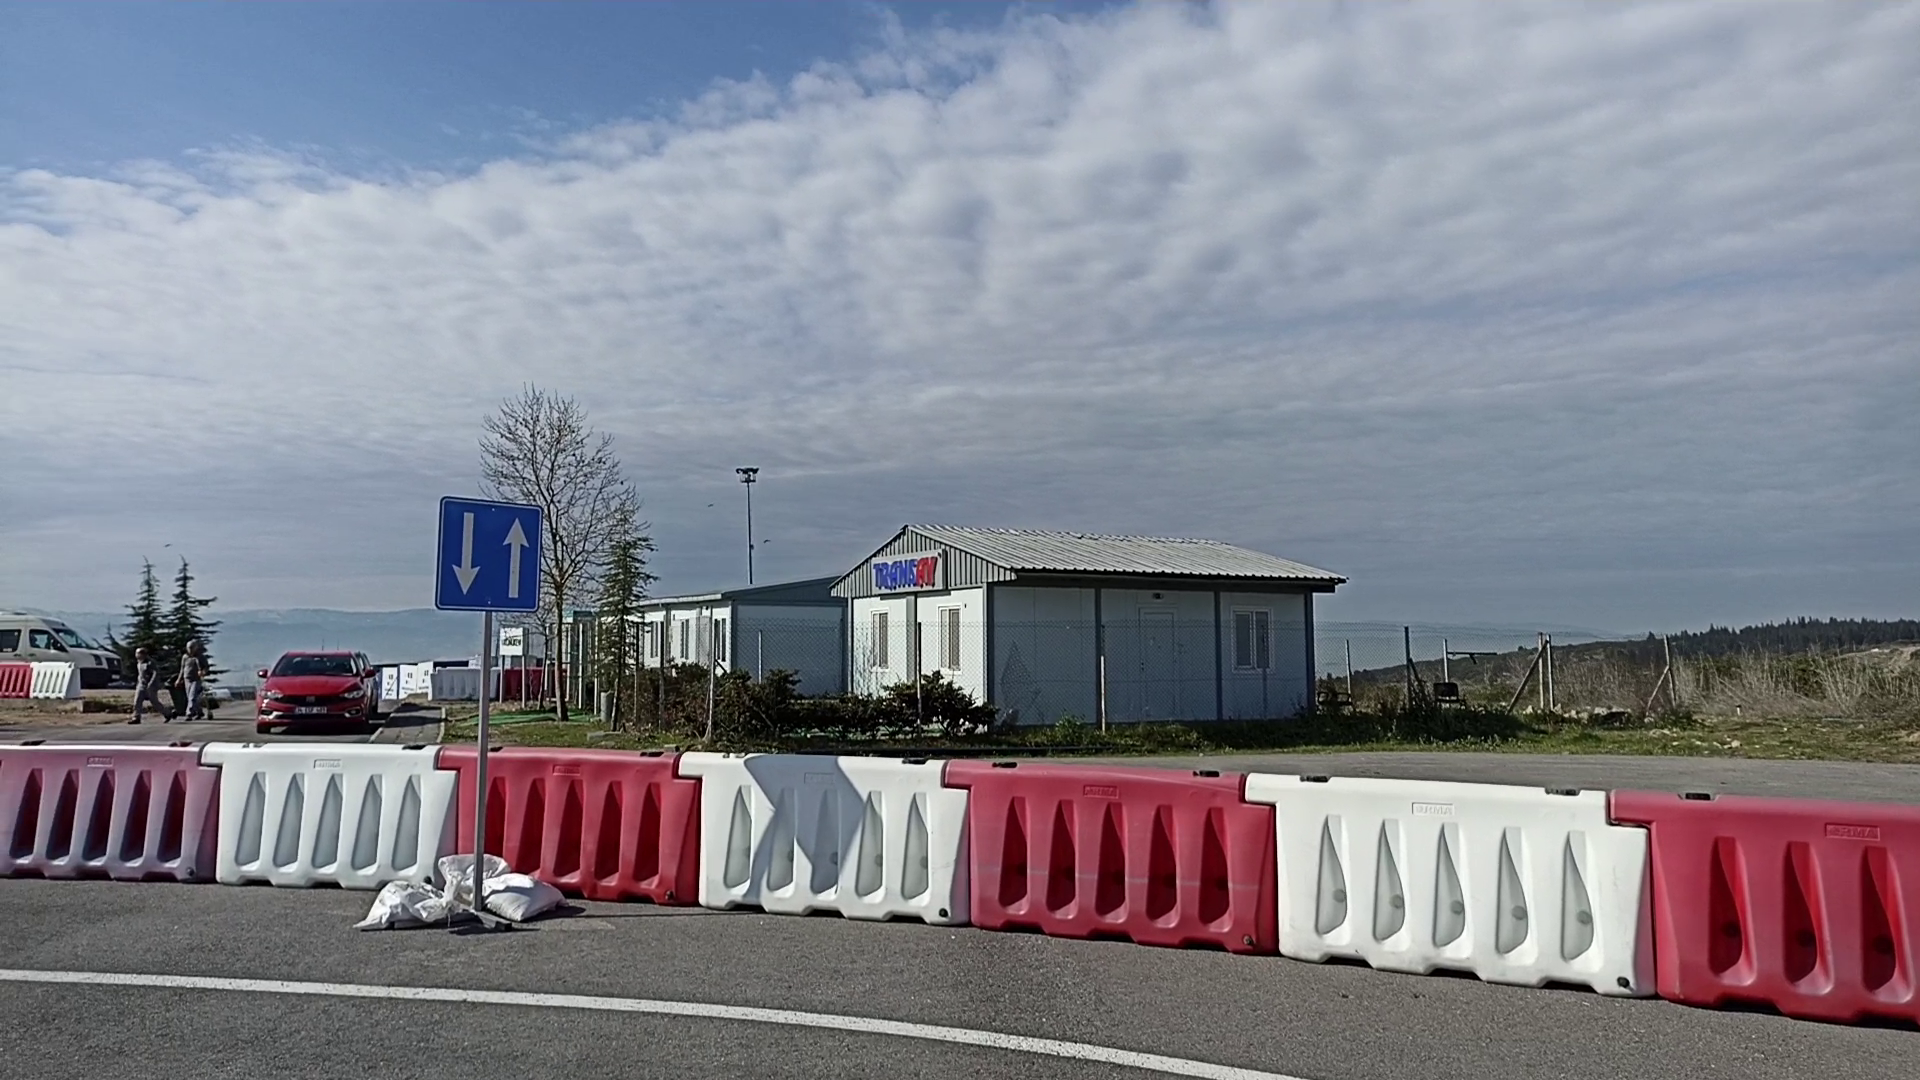oneway: (431, 495, 545, 616)
